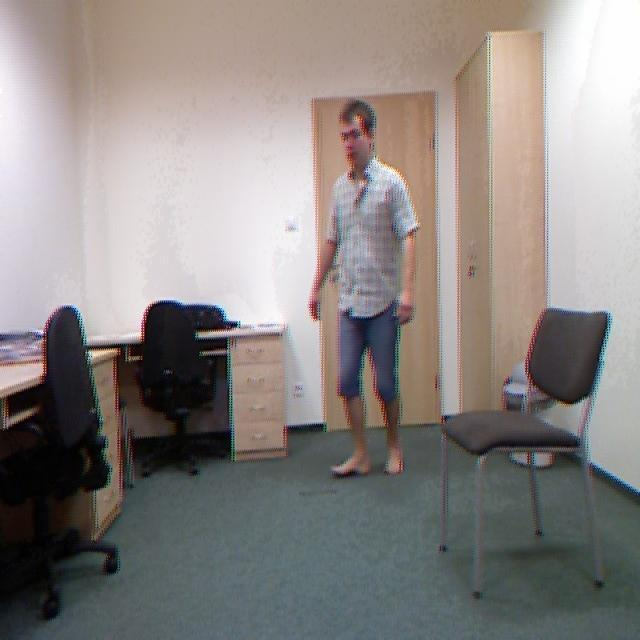walking: (300, 98, 425, 480)
